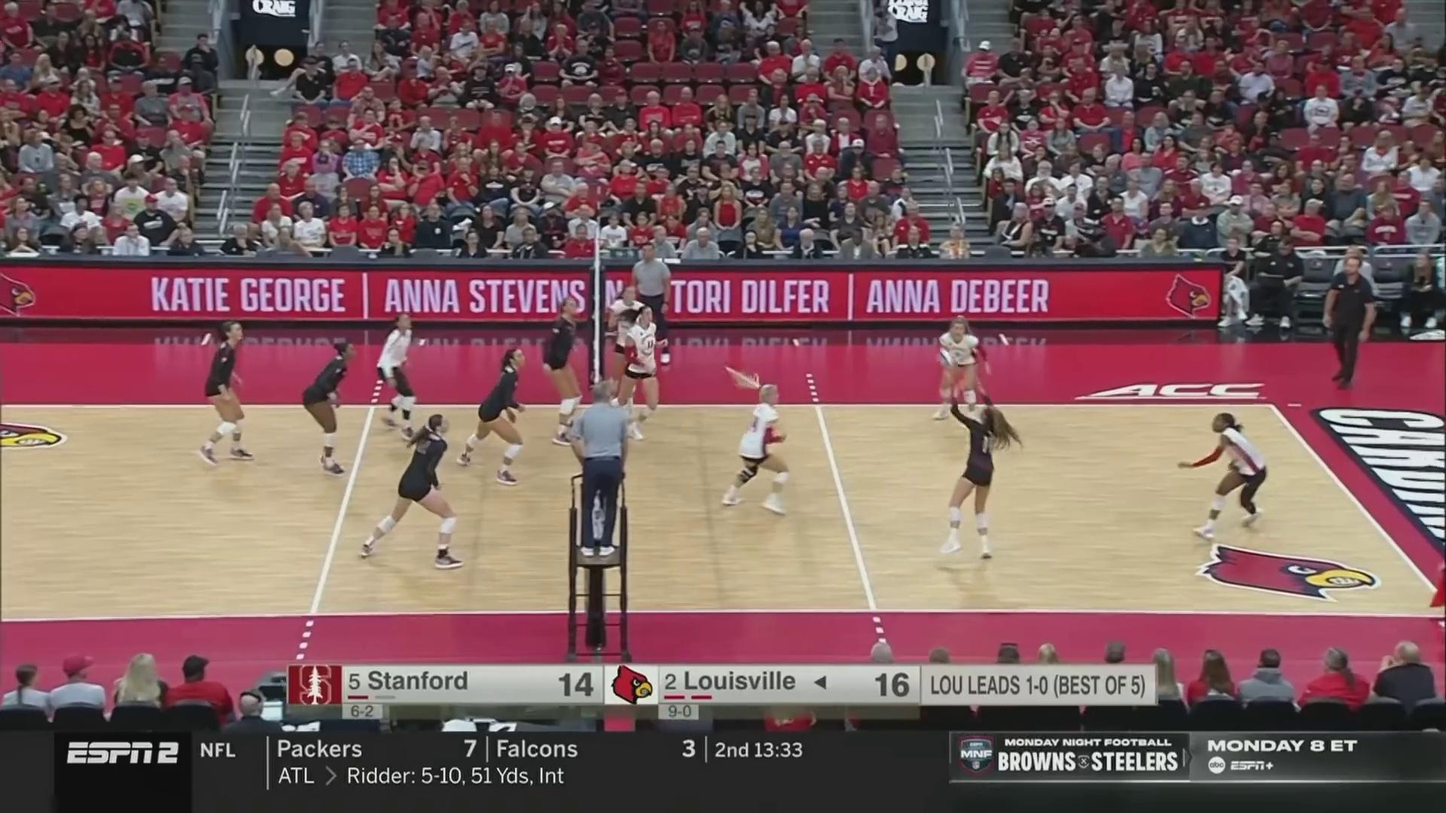player: (360, 413, 464, 566), (934, 400, 1010, 560), (1181, 414, 1273, 538), (458, 349, 532, 486), (722, 377, 794, 516), (196, 321, 254, 465), (301, 341, 362, 474), (374, 310, 437, 432), (615, 305, 663, 444), (935, 314, 996, 423), (545, 297, 588, 447), (607, 283, 653, 402)
refree: (568, 382, 635, 552), (627, 243, 676, 368)
